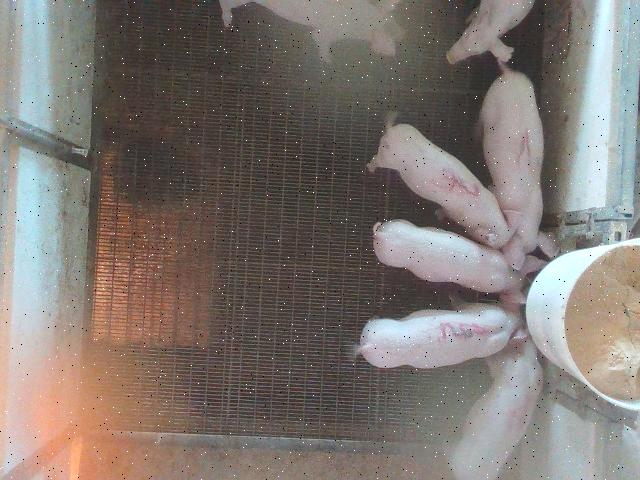pig-1: (480, 64, 559, 269)
pig-3: (356, 304, 521, 368)
pig-4: (449, 330, 542, 479)
pig-5: (368, 124, 511, 249)
